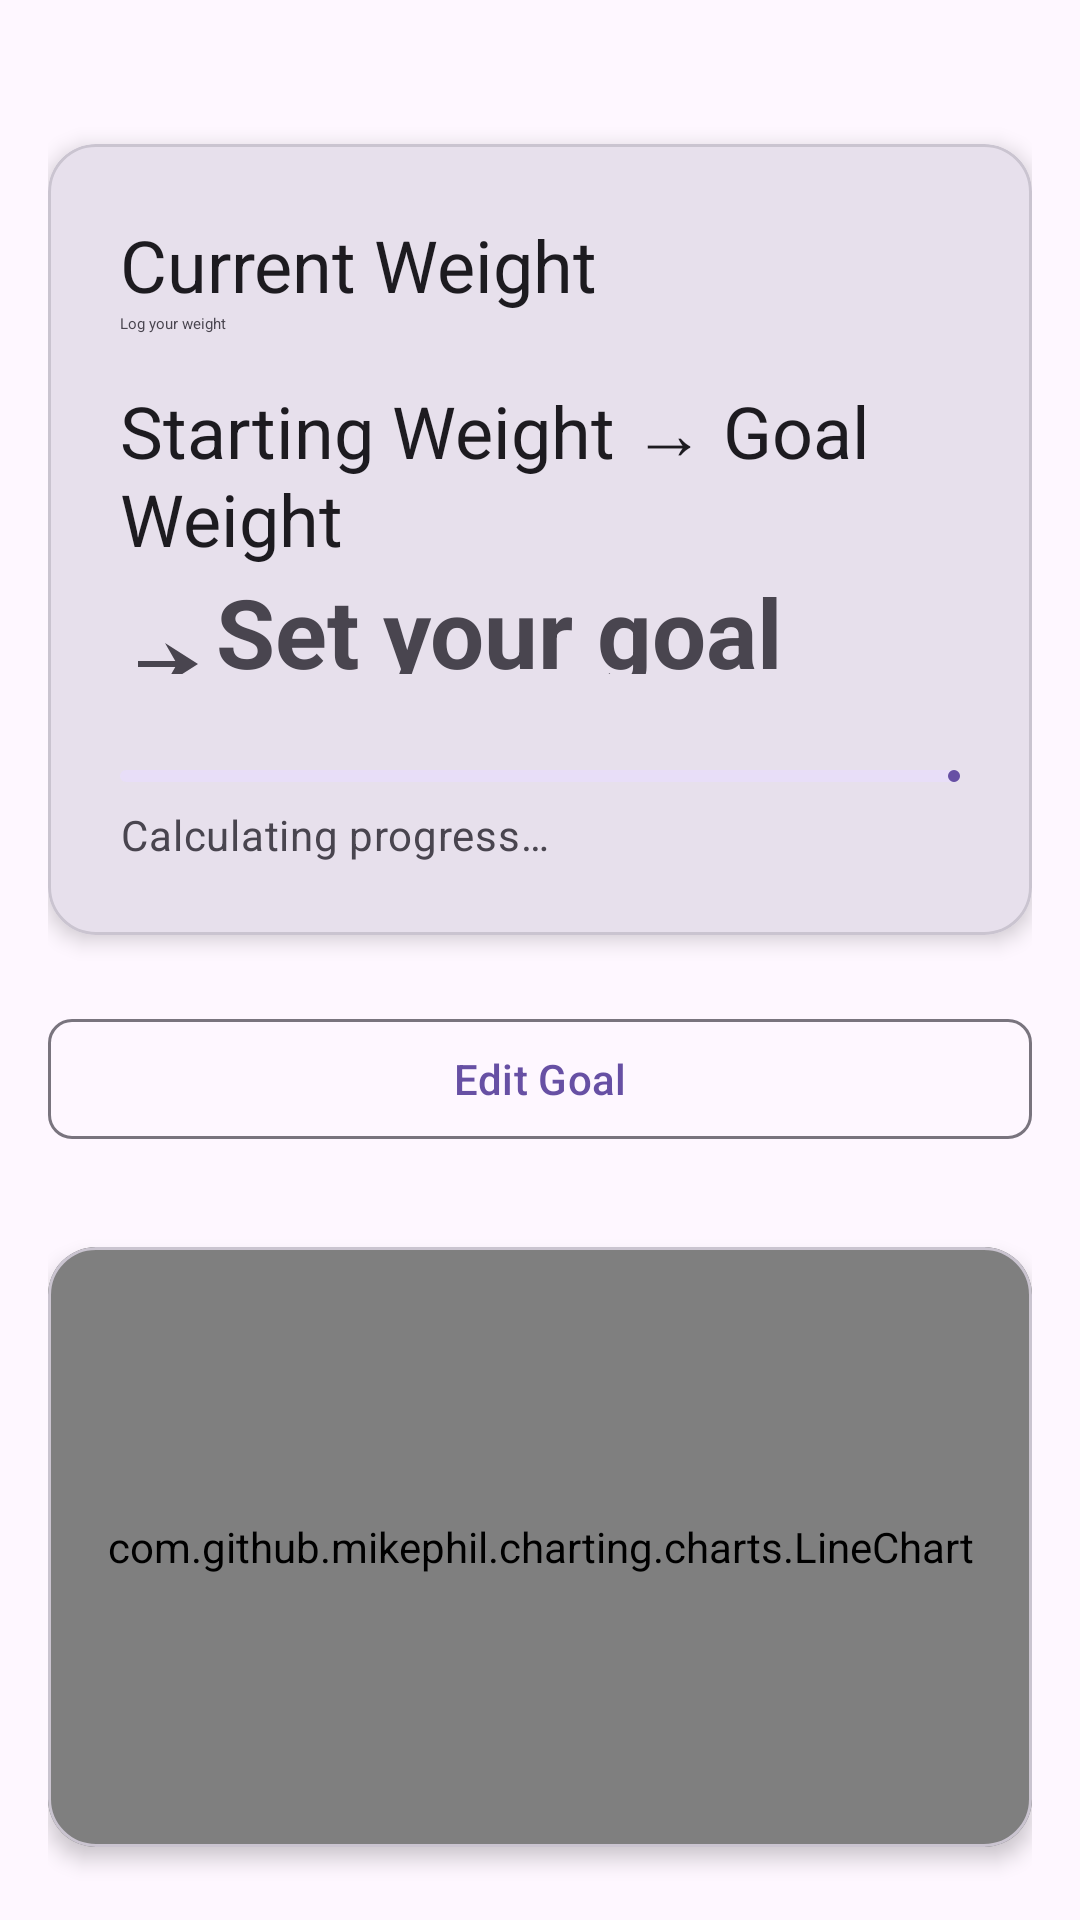

Icon click points for this 1080 x 1920 phone screenshot, format (x,y):
goal arrow: (168,658)
